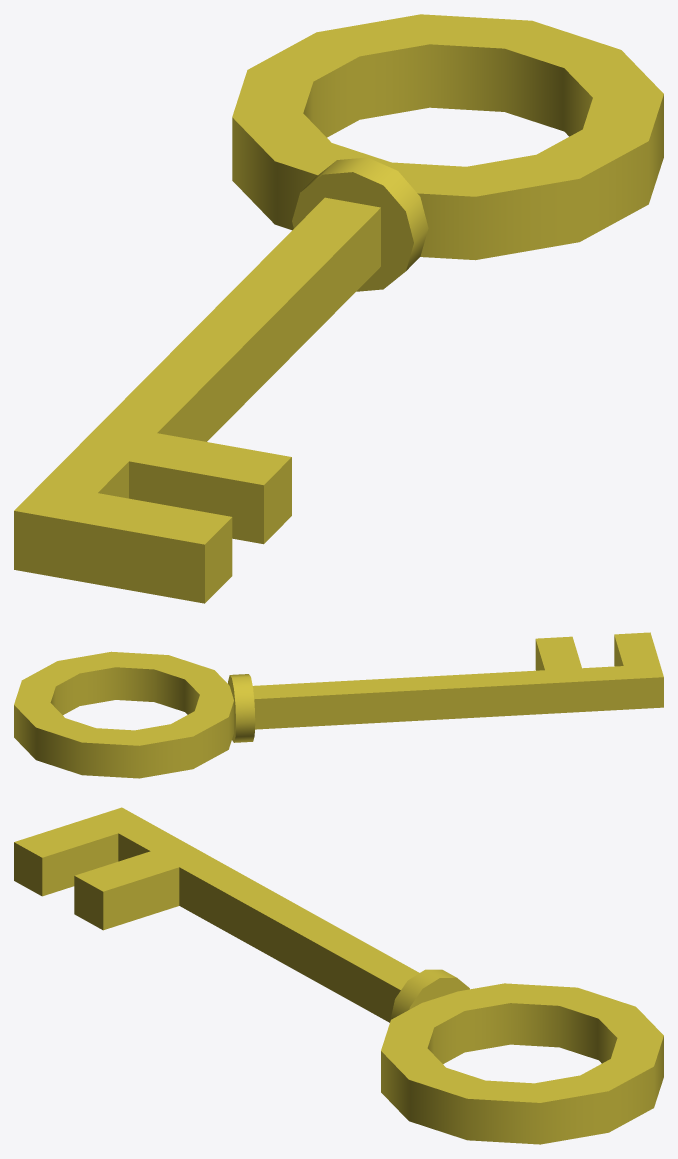
File: Key.fbx
3 renders of one model, top to bottom at view 1: azimuth 30°, elevation 25°; view 2: azimuth 150°, elevation 25°; view 3: azimuth 270°, elevation 25°, orthographic. The views are drawn at different scales.
Parts seen in each view (by area): view 1: Key; view 2: Key; view 3: Key.
Boxes of the visible parts, box(x1,y1,x2,y2) form: Key: box(14, 14, 663, 603); Key: box(14, 632, 663, 778); Key: box(14, 807, 663, 1144).
Bounding box in the file's own units: 27.72 × 3.43 × 25.7.
